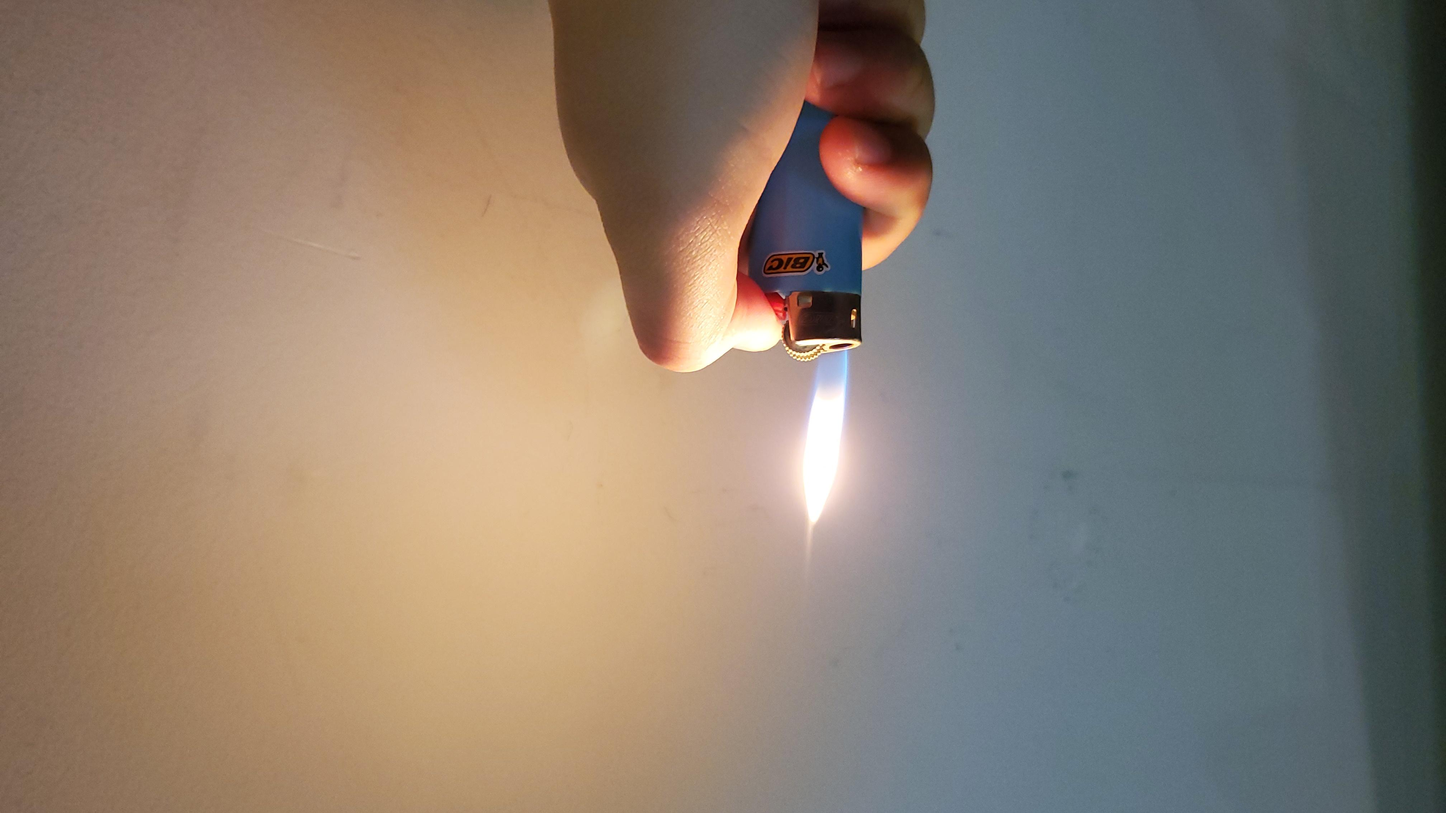fire: (596, 282, 652, 457)
